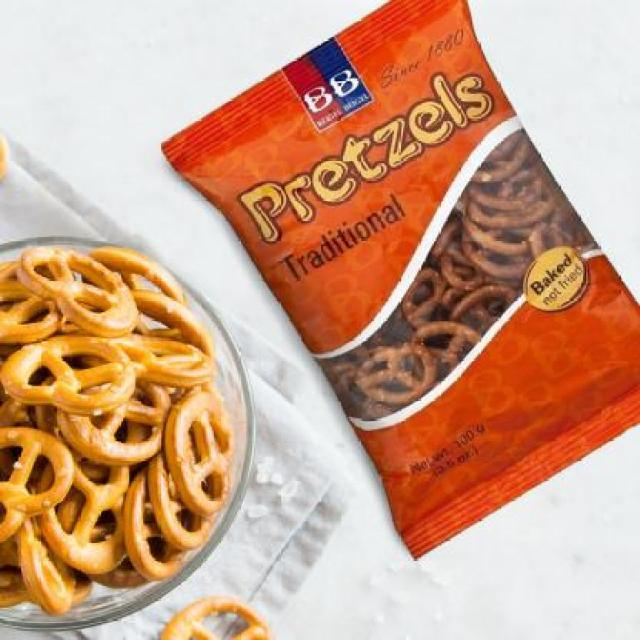Salatini: (162, 0, 640, 562)
Salatini packaged: (1, 243, 237, 617)
